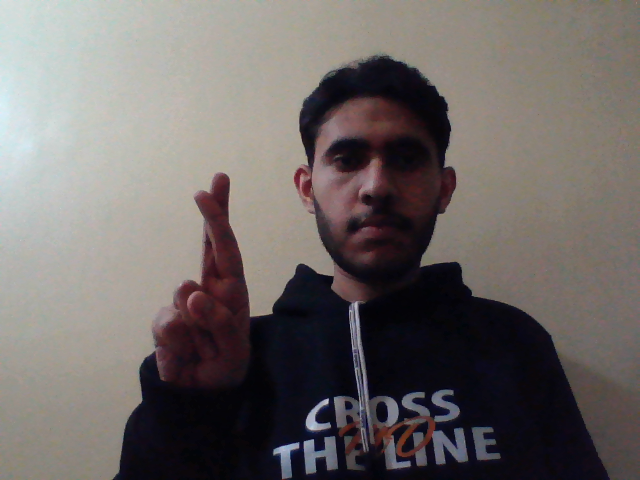R: (144, 164, 262, 399)
